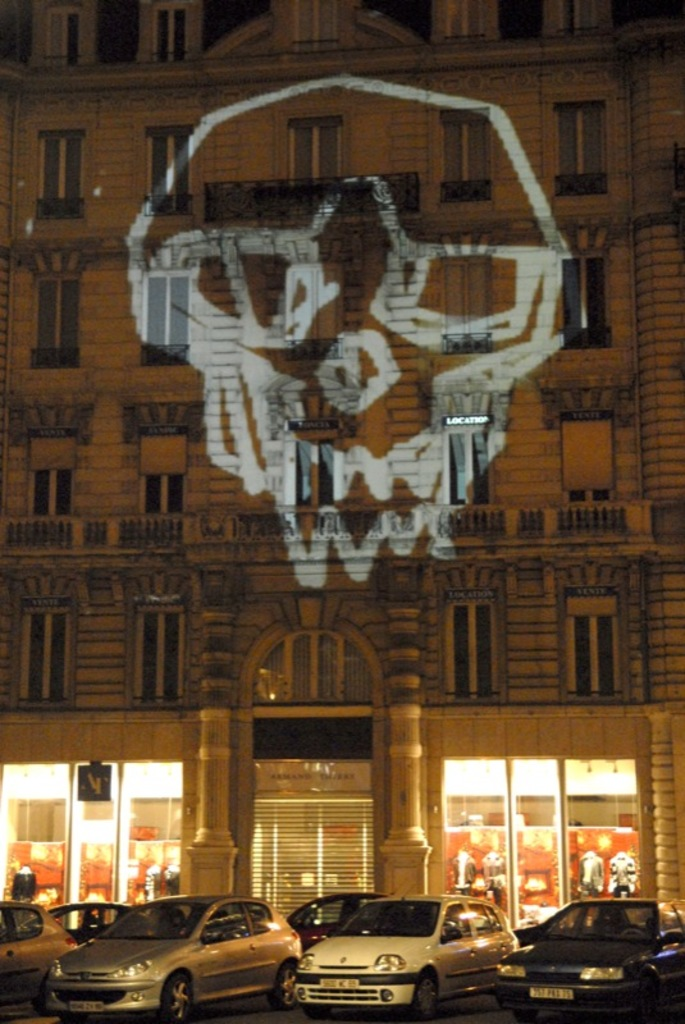Car: (47, 896, 304, 1022), (304, 889, 526, 1022), (491, 902, 683, 1015), (0, 911, 79, 1008), (293, 884, 400, 945)
